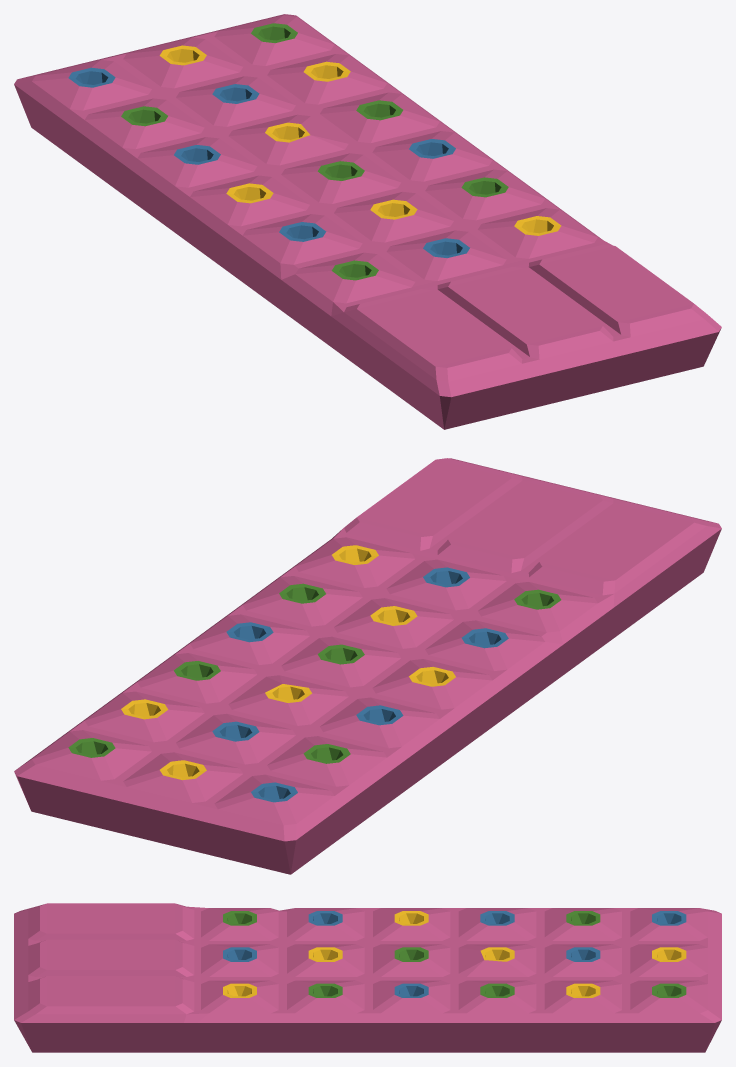
Rendered from beach-mat-inflatable-a.glb.
The picture shows the model from 3 angles, top to bottom: view 1: azimuth 30°, elevation 25°; view 2: azimuth 150°, elevation 25°; view 3: azimuth 270°, elevation 25°; orthographic projection. The views are drawn at different scales.
Parts seen in each view (by area): view 1: mat-inflatable-a; view 2: mat-inflatable-a; view 3: mat-inflatable-a.
Boxes of the visible parts, <box> form: mat-inflatable-a: <box>14,14,721,429</box>; mat-inflatable-a: <box>14,458,721,874</box>; mat-inflatable-a: <box>14,903,721,1052</box>.
Size of the model in its own units: 0.8511 by 0.1636 by 2.27.
